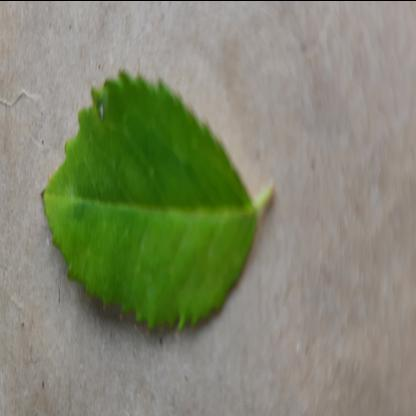normal: (38, 67, 256, 335)
